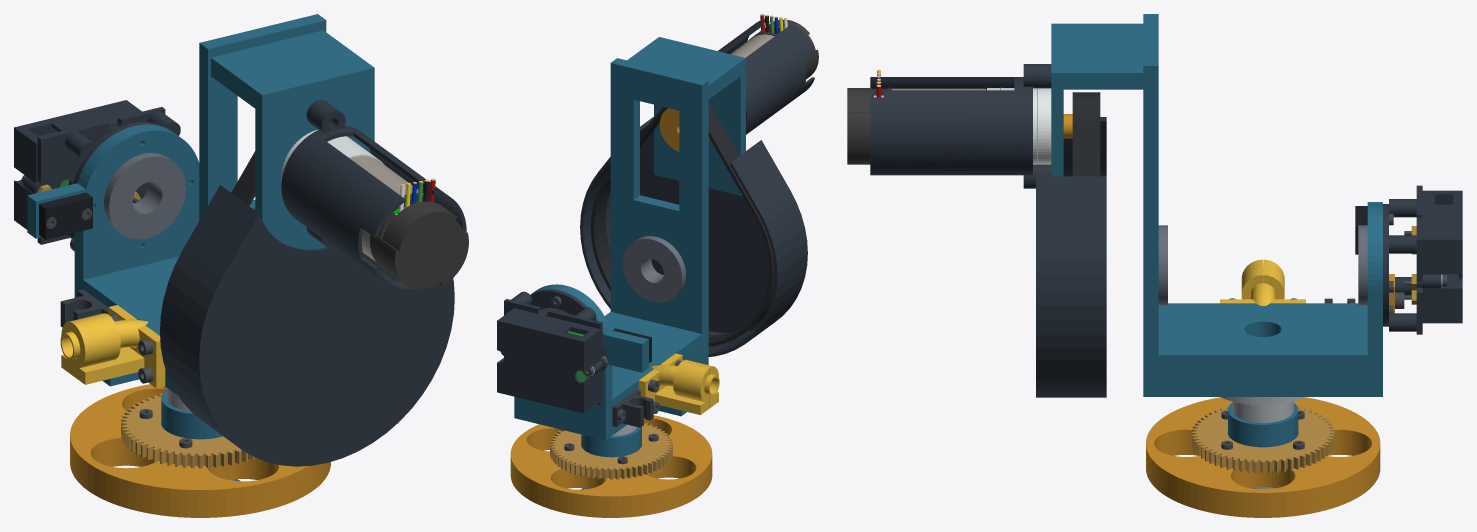
3 views of the same model, side by side, from view 1: azimuth 30°, elevation 25°; view 2: azimuth 150°, elevation 25°; view 3: azimuth 270°, elevation 25° (orthographic). The views are drawn at different scales.
Visible parts, largest first — view 1: link; view 2: link; view 3: link.
Part boxes in pixels (x1,y1,x2,y2): link: (14, 14, 468, 517); link: (497, 14, 818, 517); link: (847, 14, 1462, 517).
Size of the model in its own units: 0.0882 by 0.2005 by 0.166.
